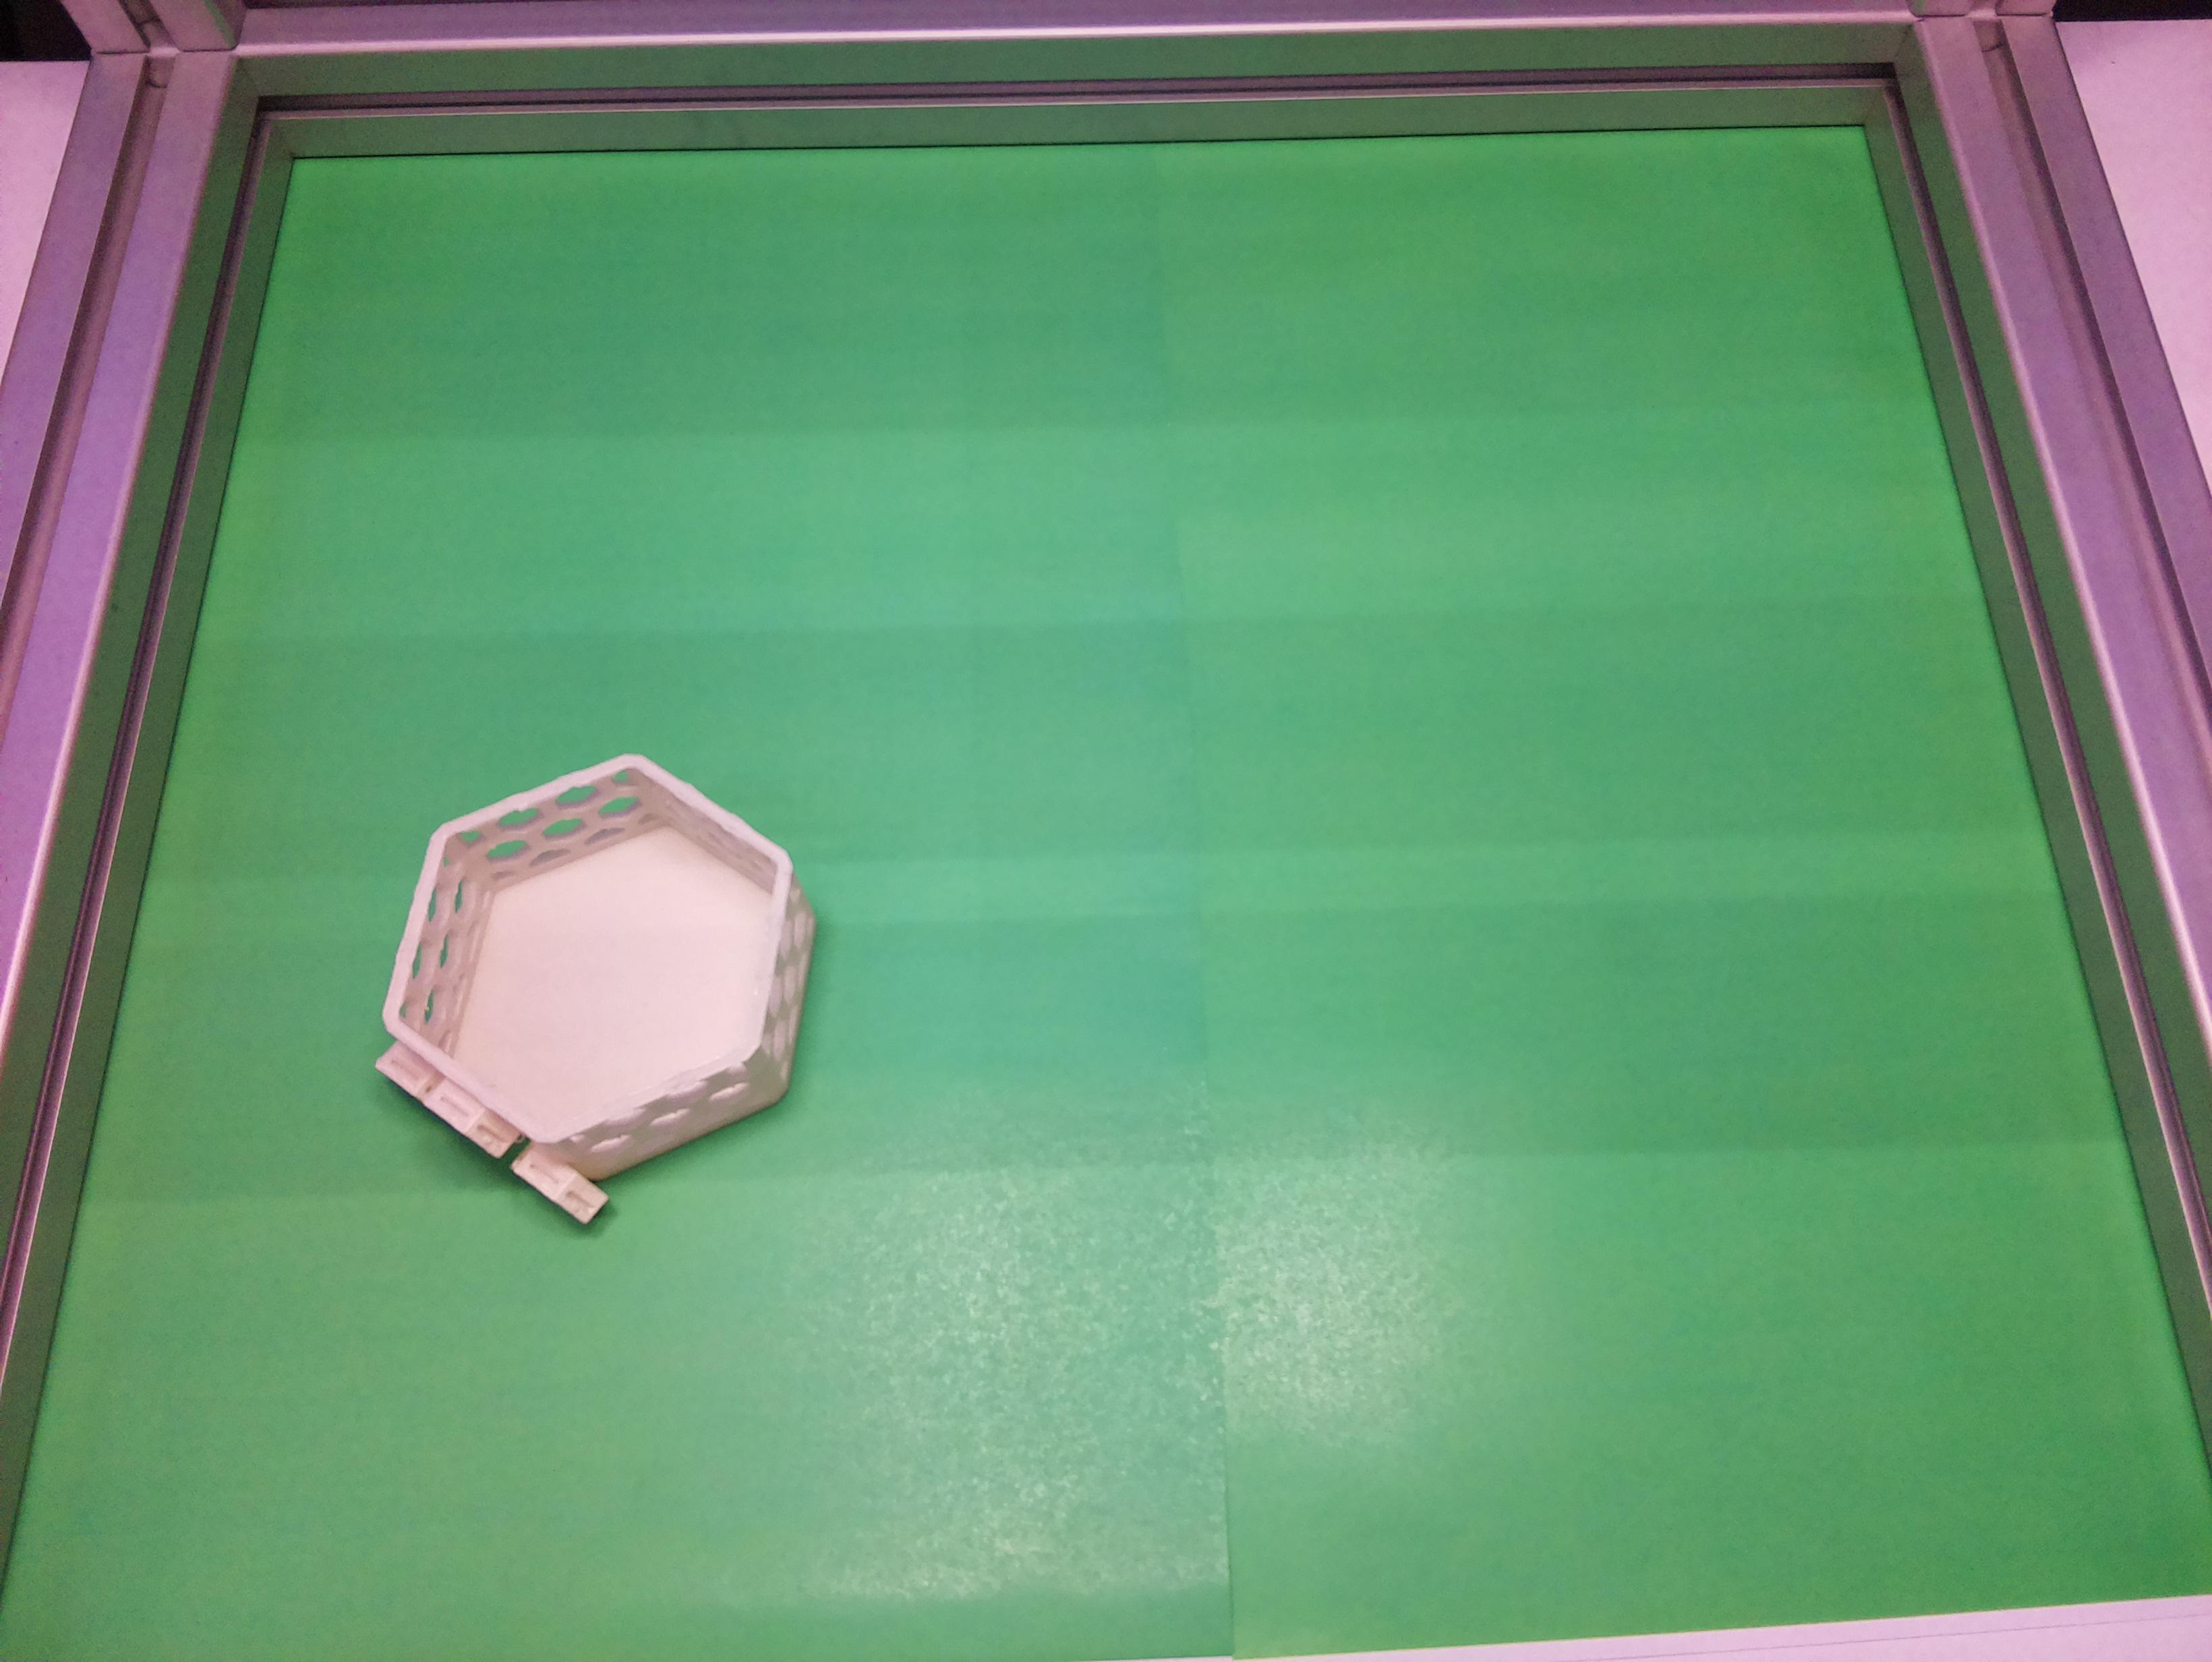bottle_holder: (300, 677, 899, 1274)
